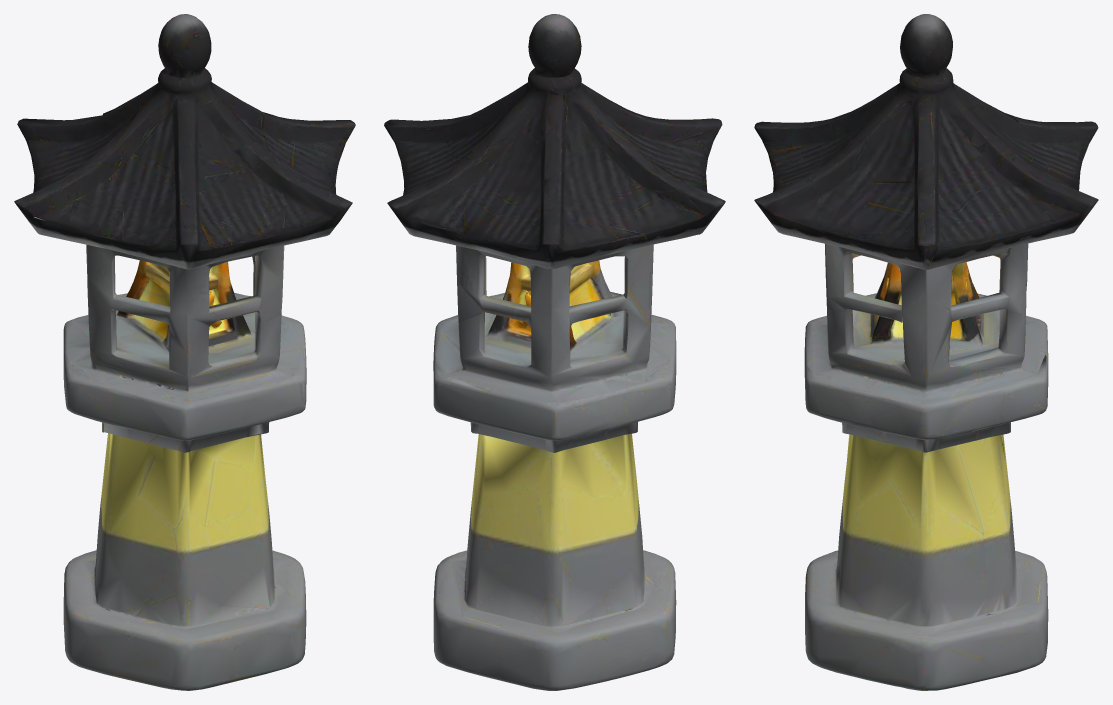
Rendered from stone_lantern.glb.
3 views of the same model, side by side, from view 1: azimuth 30°, elevation 25°; view 2: azimuth 150°, elevation 25°; view 3: azimuth 270°, elevation 25° (orthographic).
Size of the model in its own units: 1.09 by 1.91 by 0.9598.
1 material, 1 textured.
